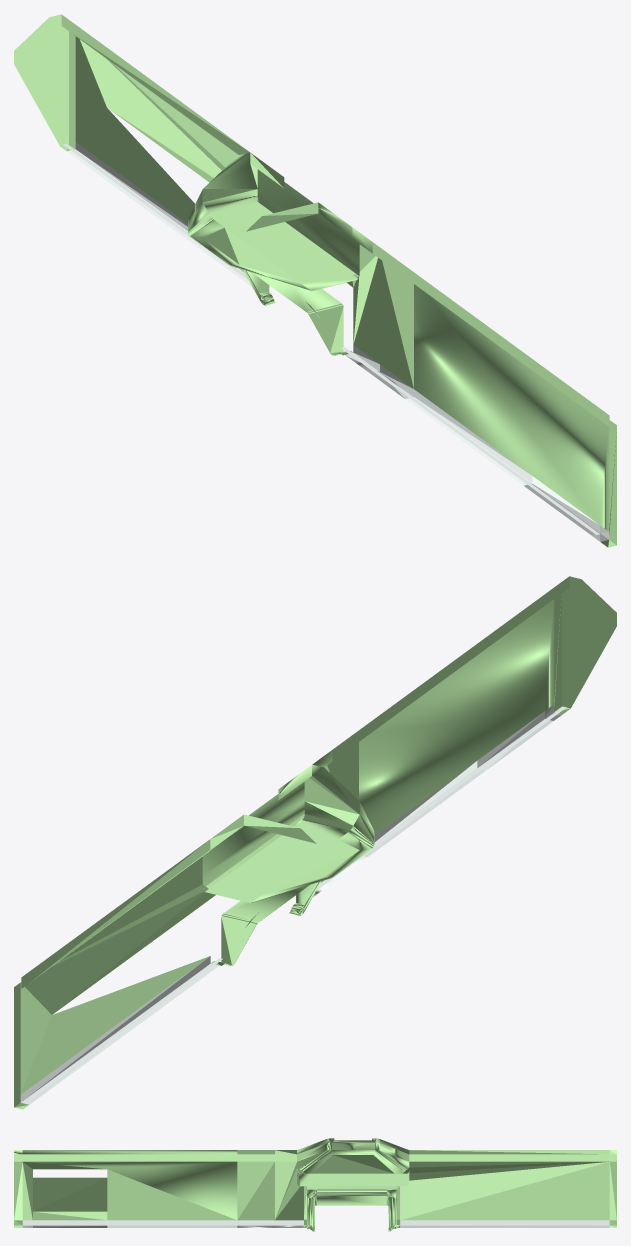
File: plate_trim_64m_walkway_a.glb
3 renders of one model, top to bottom at view 1: azimuth 30°, elevation 25°; view 2: azimuth 150°, elevation 25°; view 3: azimuth 270°, elevation 25°, orthographic. The views are drawn at different scales.
Size of the model in its own units: 6.69 by 8.93 by 64.
